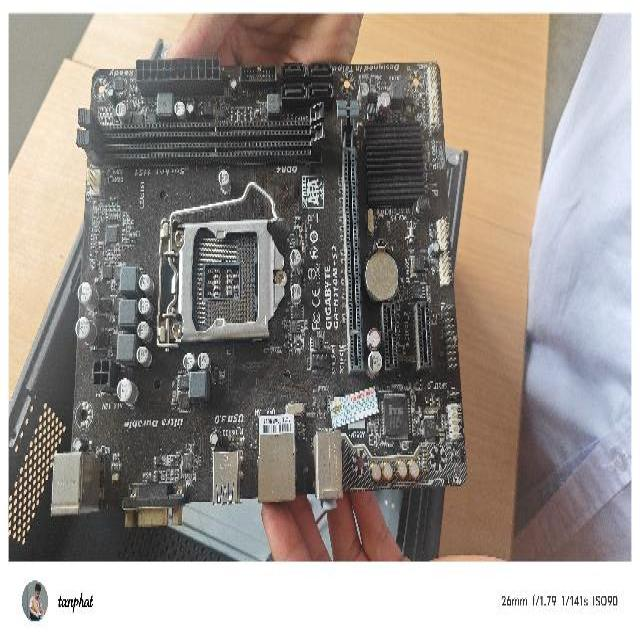Mainboard: (48, 56, 466, 521)
